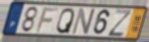6: (93, 9, 111, 36)
8: (21, 6, 39, 33)
F: (34, 7, 60, 33)
N: (70, 7, 97, 36)
Q: (55, 7, 76, 35)
Z: (107, 9, 134, 38)
